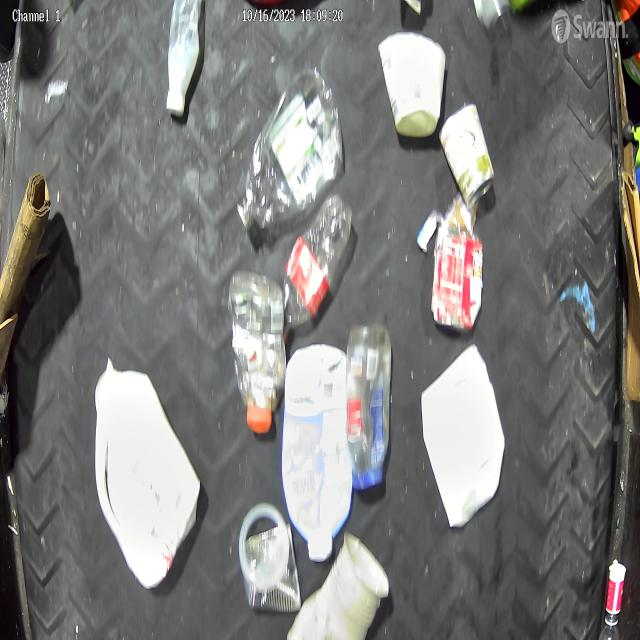can: (434, 238, 484, 332)
milk_jug: (94, 356, 200, 591)
plastic_bottle: (230, 259, 288, 432), (288, 196, 350, 325)
